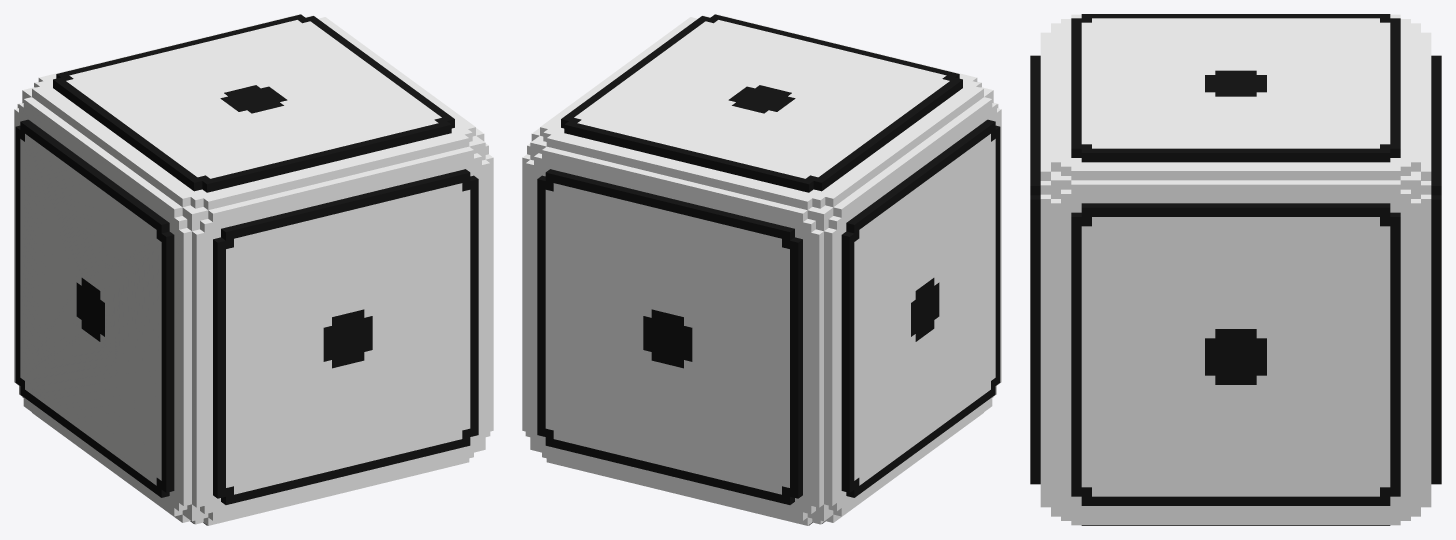
The model's file is Dicemob1.obj.
3 renders of one model, left to right at view 1: azimuth 30°, elevation 25°; view 2: azimuth 150°, elevation 25°; view 3: azimuth 270°, elevation 25°, orthographic. The views are drawn at different scales.
Size of the model in its own units: 4 by 4 by 4.
